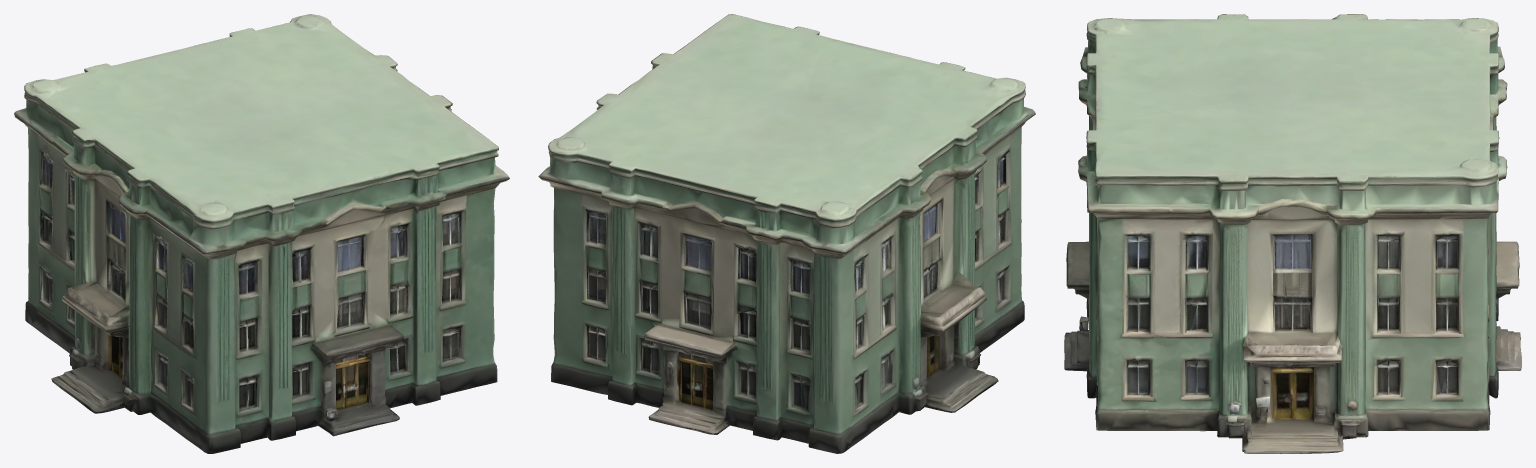
Rendered from bld_exchange.glb.
The picture shows the model from 3 angles, left to right: view 1: azimuth 30°, elevation 25°; view 2: azimuth 150°, elevation 25°; view 3: azimuth 270°, elevation 25°; orthographic projection. The views are drawn at different scales.
Parts seen in each view (by area): view 1: tripo_node_7d5409ca-1ada-43d4-bbb3-a343d17b2de5; view 2: tripo_node_7d5409ca-1ada-43d4-bbb3-a343d17b2de5; view 3: tripo_node_7d5409ca-1ada-43d4-bbb3-a343d17b2de5.
Boxes of the visible parts, <box> form: tripo_node_7d5409ca-1ada-43d4-bbb3-a343d17b2de5: <box>14,14,509,453</box>; tripo_node_7d5409ca-1ada-43d4-bbb3-a343d17b2de5: <box>538,14,1035,453</box>; tripo_node_7d5409ca-1ada-43d4-bbb3-a343d17b2de5: <box>1064,14,1521,453</box>.
Size of the model in its own units: 0.9855 by 0.5927 by 0.9447.
Materials: 1 (1 with a texture image).
